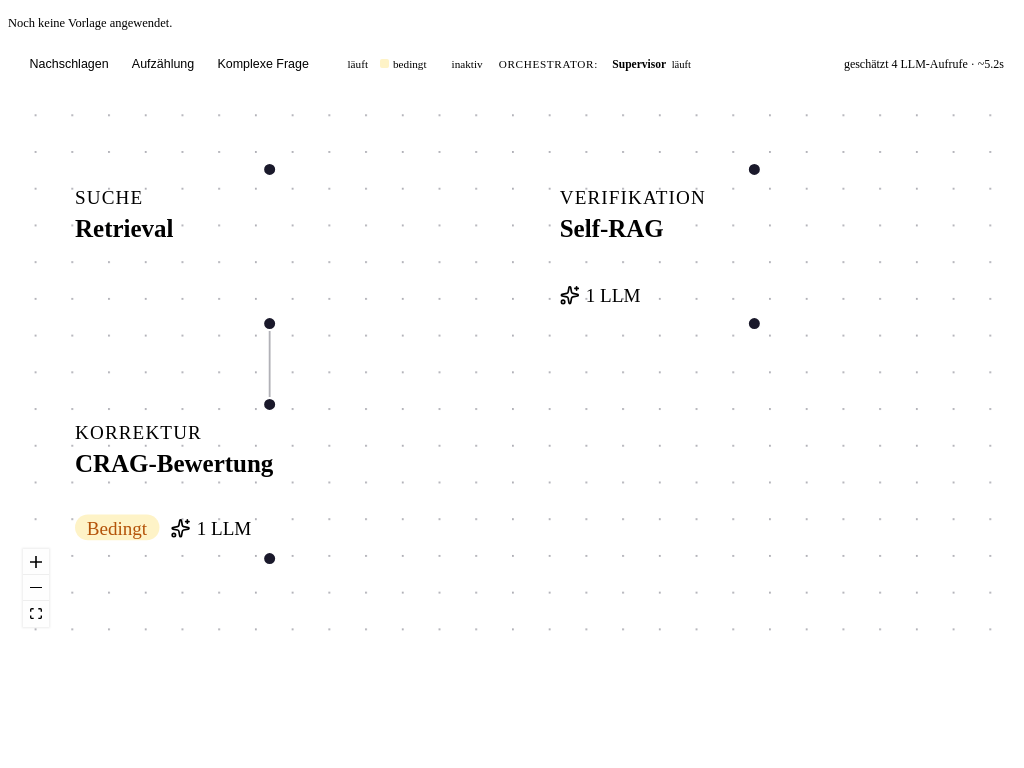
Scenario: WorkflowCanvas › save / reset / refetch › shows the origin badge as "global" immediately after a successful reset, not the stale "kb" badge
Click the element with test id "wf-node-crag_grade" at (176, 481), box [75,397,277,566]
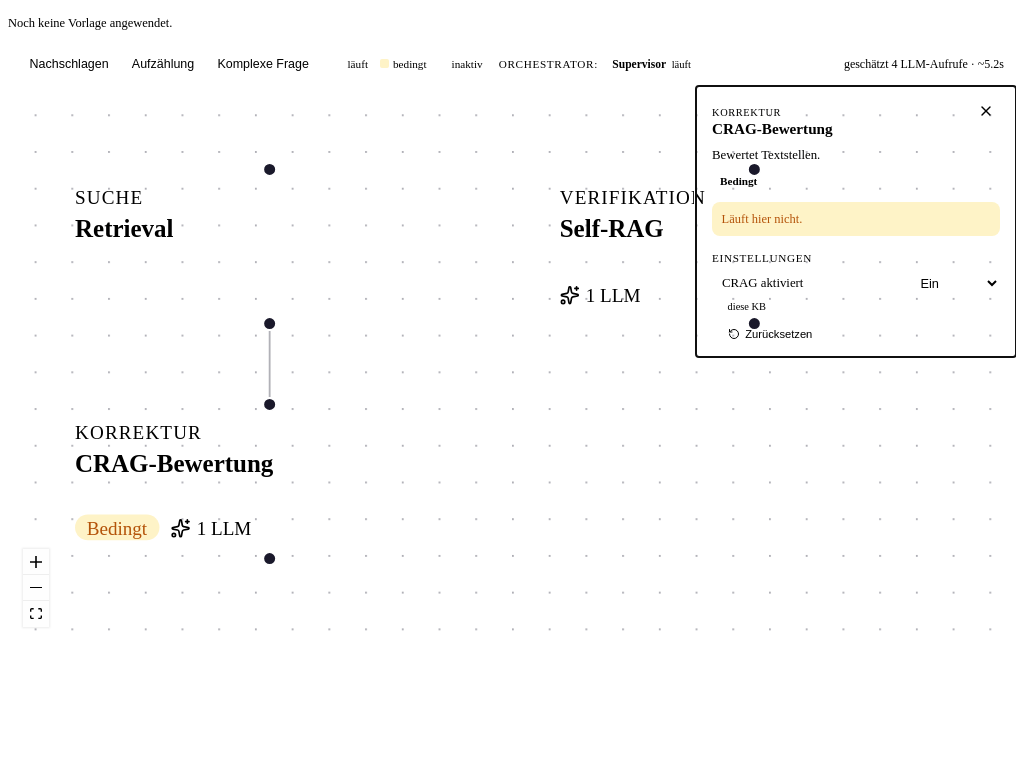
Click the button with aria-label "CRAG aktiviert zurücksetzen" at (770, 334), box [722,326,819,341]
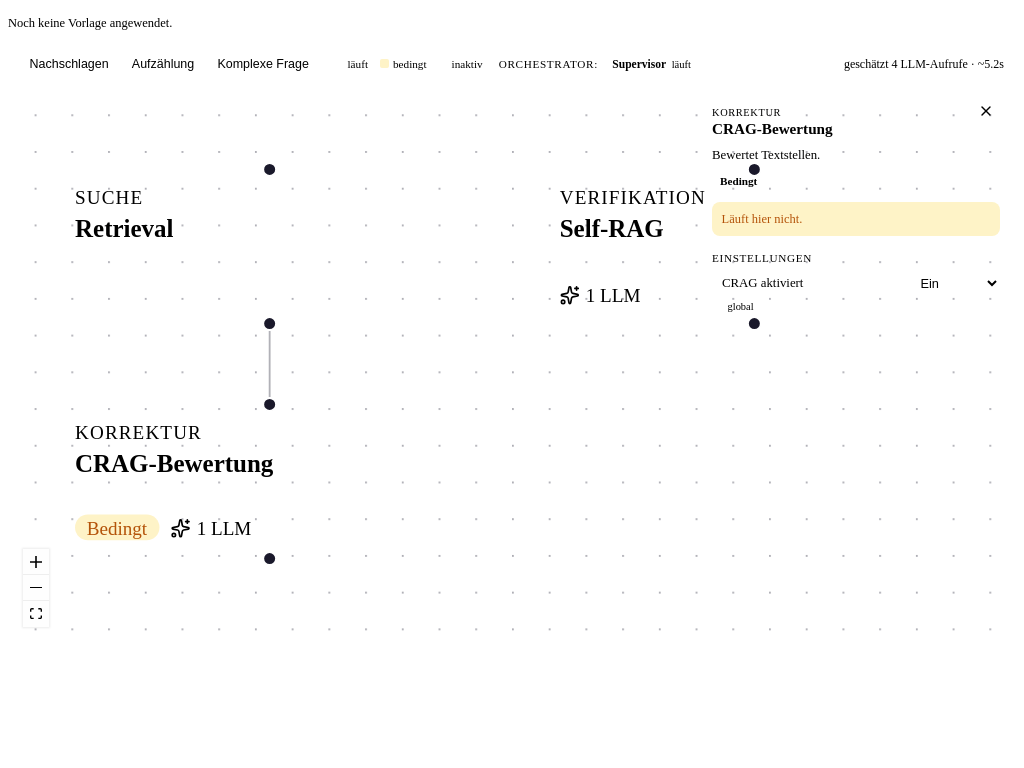
Expected: the text "global" is shown, [728,301,754,312]
